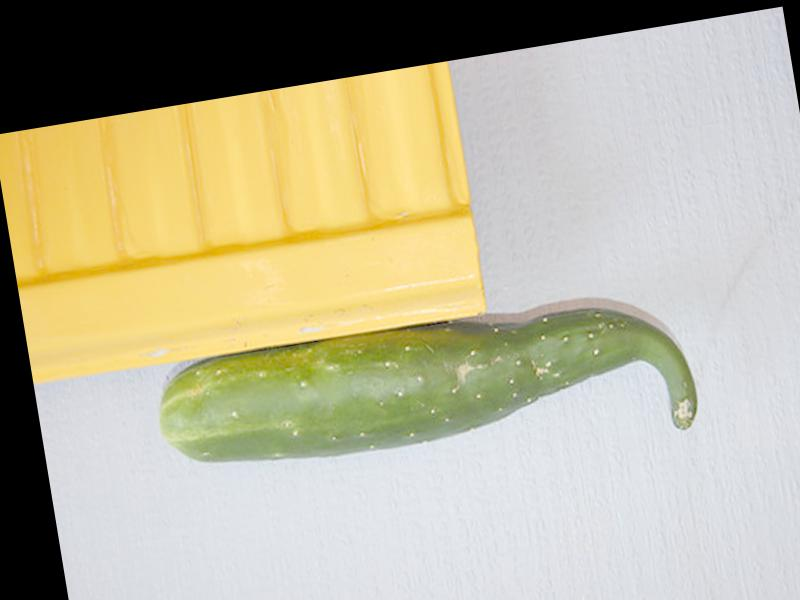Cucumber: (154, 280, 704, 513)
